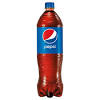Pepsi: (36, 5, 63, 99)
